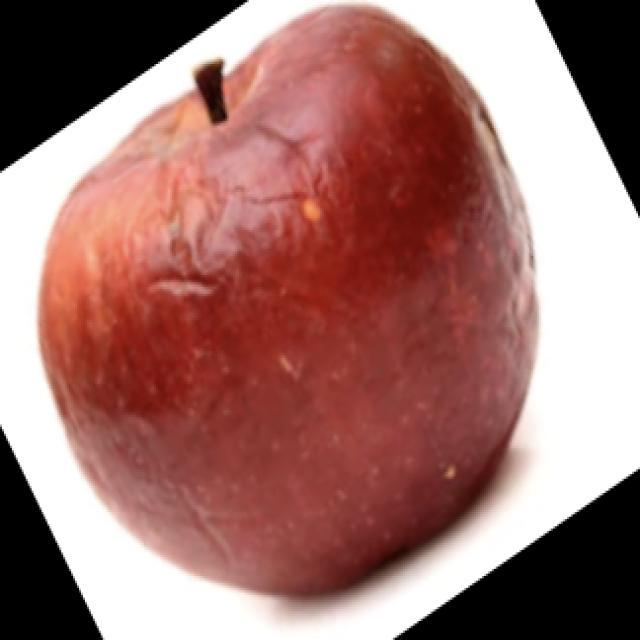Rotten: (70, 23, 525, 580)
